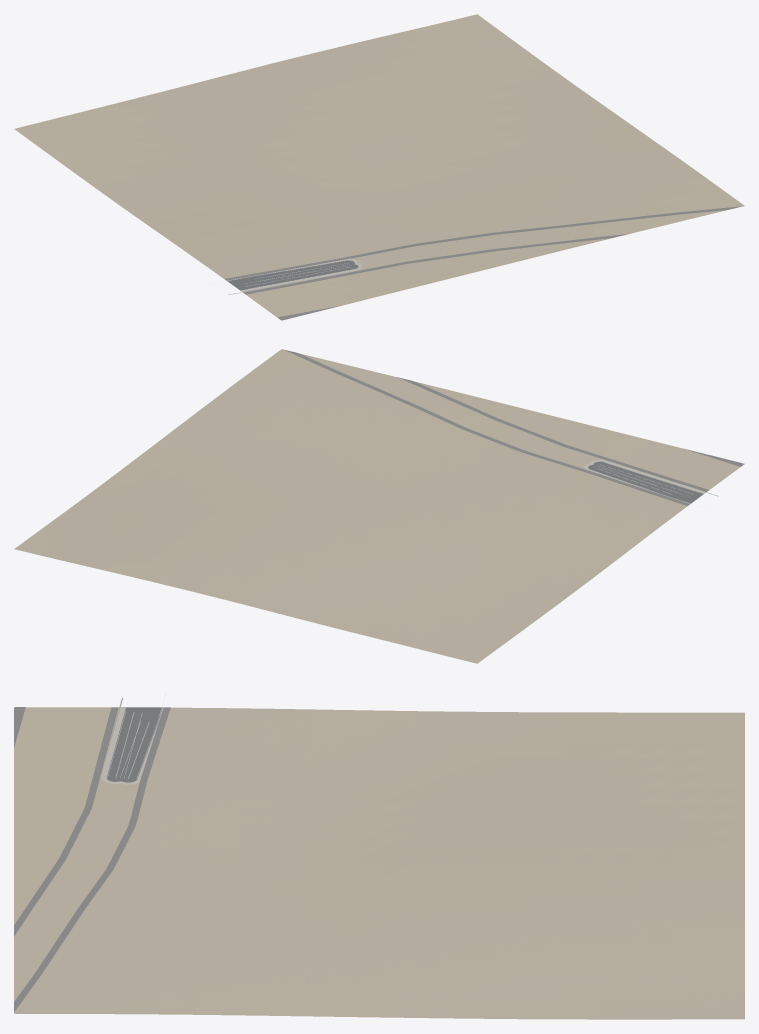
File: bolak_9_-2.glb
3 renders of one model, top to bottom at view 1: azimuth 30°, elevation 25°; view 2: azimuth 150°, elevation 25°; view 3: azimuth 270°, elevation 25°, orthographic. The views are drawn at different scales.
Visible parts, largest first — view 1: Yer_Tuproq-col, Yol_Mahalla-col, Yol_Asfalt-col; view 2: Yer_Tuproq-col, Yol_Mahalla-col, Yol_Asfalt-col; view 3: Yer_Tuproq-col, Yol_Mahalla-col, Yol_Asfalt-col, Trotuar.
Part boxes in pixels (x1,y1,x2,y2): Yer_Tuproq-col: [14, 14, 744, 320]; Yol_Mahalla-col: [224, 206, 741, 320]; Yol_Asfalt-col: [227, 260, 358, 290]; Yer_Tuproq-col: [14, 349, 741, 663]; Yol_Mahalla-col: [284, 349, 744, 505]; Yol_Asfalt-col: [588, 461, 703, 503]; Yer_Tuproq-col: [14, 707, 744, 1019]; Yol_Mahalla-col: [14, 707, 170, 1012]; Yol_Asfalt-col: [106, 707, 162, 782]; Trotuar: [101, 707, 163, 784].
Size of what is drawn, in the model's own units: 420 by 4.93 by 400.
